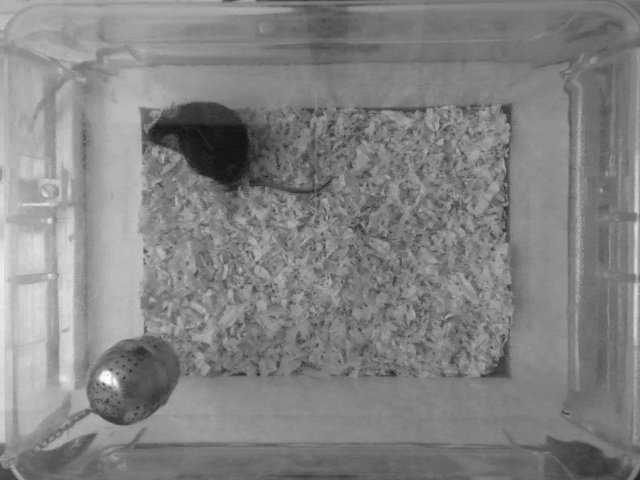mice: (143, 100, 335, 195)
